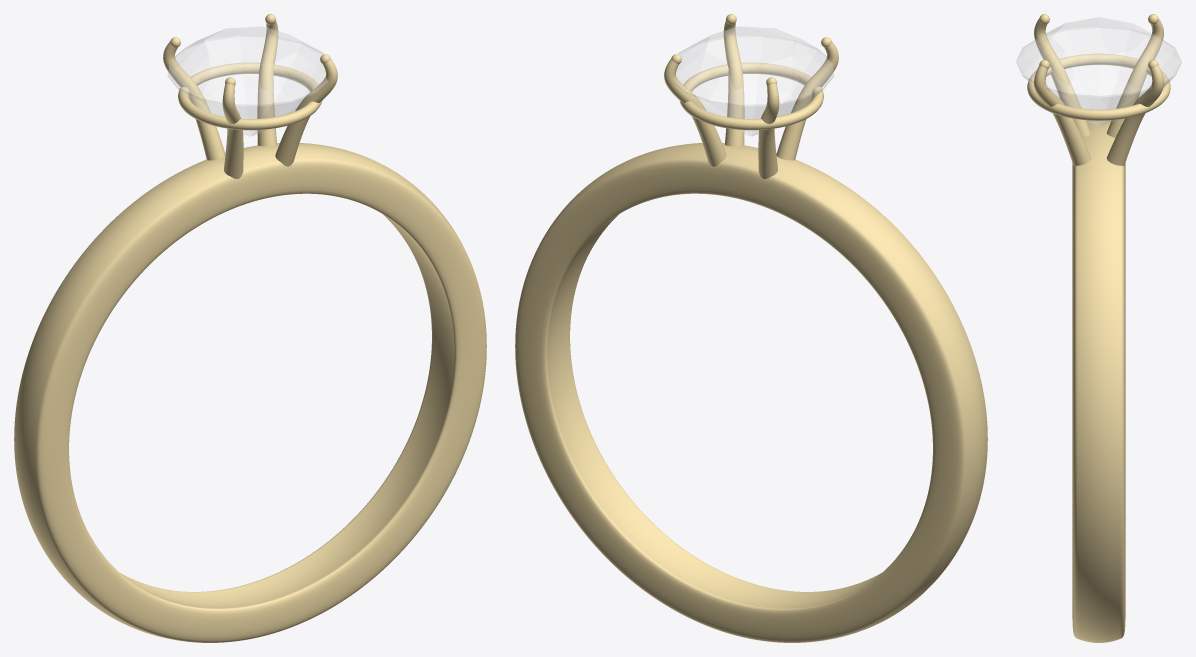
Rendered from ring-high.glb.
3 views of the same model, side by side, from view 1: azimuth 30°, elevation 25°; view 2: azimuth 150°, elevation 25°; view 3: azimuth 270°, elevation 25° (orthographic).
Parts seen in each view (by area): view 1: band, stone, head; view 2: band, stone, head; view 3: band, stone, head.
Part boxes in pixels (x1=…): band: x1=14, y1=143, x2=486, y2=642; stone: x1=168, y1=26, x2=327, y2=136; head: x1=163, y1=14, x2=337, y2=178; band: x1=515, y1=143, x2=987, y2=642; stone: x1=674, y1=26, x2=833, y2=136; head: x1=664, y1=14, x2=838, y2=178; band: x1=1072, y1=120, x2=1125, y2=642; stone: x1=1016, y1=17, x2=1181, y2=126; head: x1=1027, y1=14, x2=1170, y2=166.
Size of the model in its own units: 0.0206 by 0.0252 by 0.0065.
